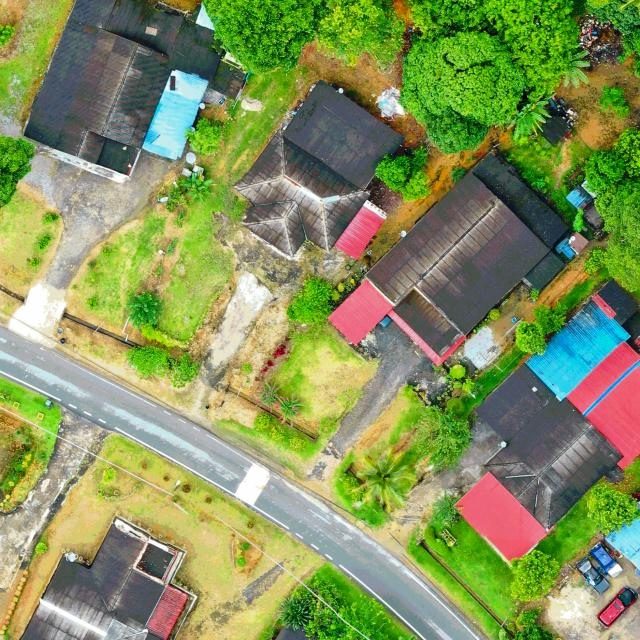Tree: (400, 28, 528, 154), (581, 116, 640, 296), (478, 0, 582, 101), (201, 0, 319, 76), (316, 0, 406, 68), (302, 594, 398, 640), (417, 401, 474, 472), (356, 448, 417, 509), (374, 144, 432, 202), (584, 480, 640, 536), (0, 135, 36, 222), (509, 547, 562, 603), (286, 276, 334, 324), (506, 100, 552, 145), (124, 290, 167, 329), (183, 116, 223, 157), (126, 343, 170, 376), (180, 166, 218, 203), (562, 47, 592, 89), (168, 352, 202, 389), (532, 303, 569, 336), (514, 320, 548, 355), (598, 84, 632, 118), (0, 22, 16, 46)
